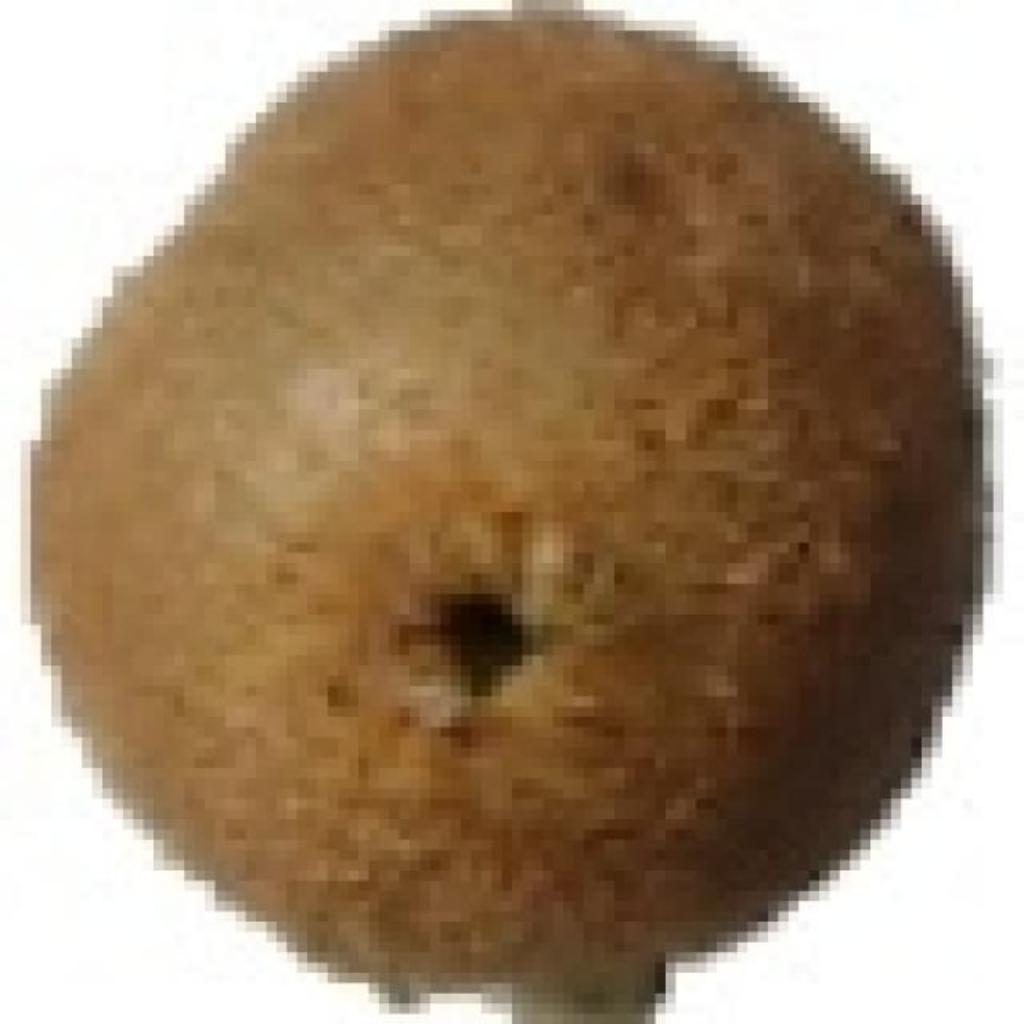kiwi: (20, 10, 963, 1004)
